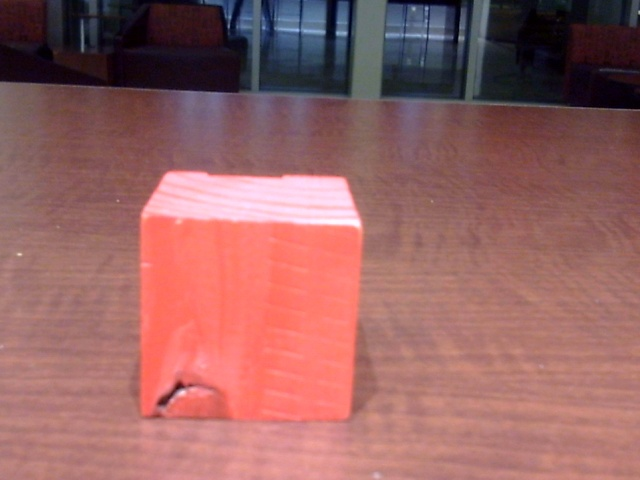RedBlock: (139, 213, 360, 425)
